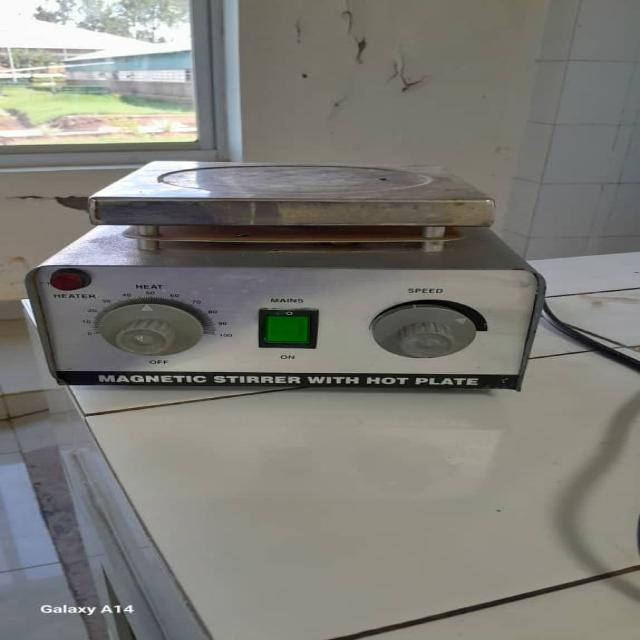Magnetic Stirrer: (54, 157, 556, 406)
